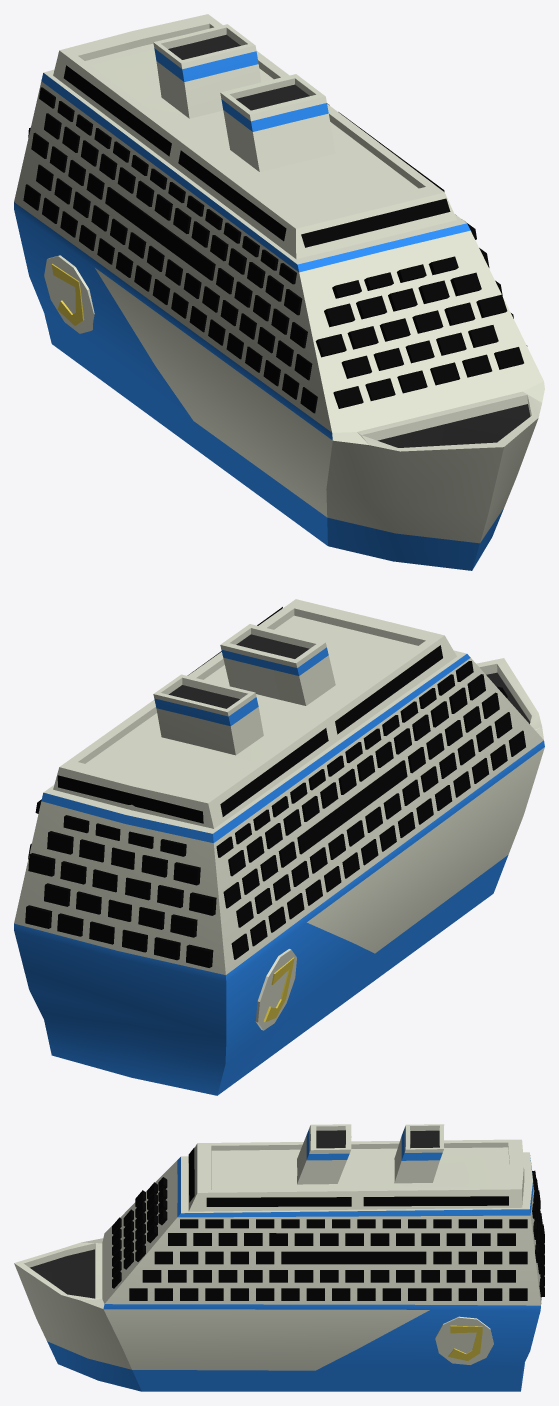
Rendered from Titani2.fbx.
3 renders of one model, top to bottom at view 1: azimuth 30°, elevation 25°; view 2: azimuth 150°, elevation 25°; view 3: azimuth 270°, elevation 25°, orthographic. The views are drawn at different scales.
Parts seen in each view (by area): view 1: Cube.006; view 2: Cube.006; view 3: Cube.006.
Boxes of the visible parts, x1,y1,x2,y2 form: Cube.006: [14, 14, 544, 570]; Cube.006: [14, 599, 544, 1095]; Cube.006: [14, 1124, 544, 1391].
Bounding box in the file's own units: 1383 × 1981 × 4192.
